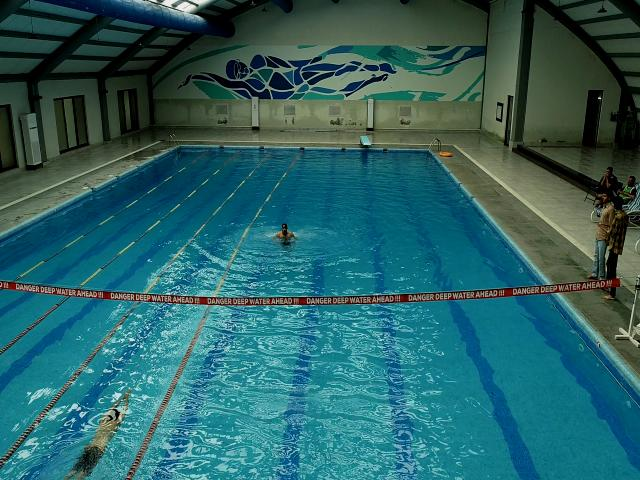out of water: (598, 194, 628, 302), (588, 188, 614, 284), (596, 166, 618, 200), (614, 174, 638, 204)
swimming: (66, 386, 132, 480), (274, 222, 298, 249)
